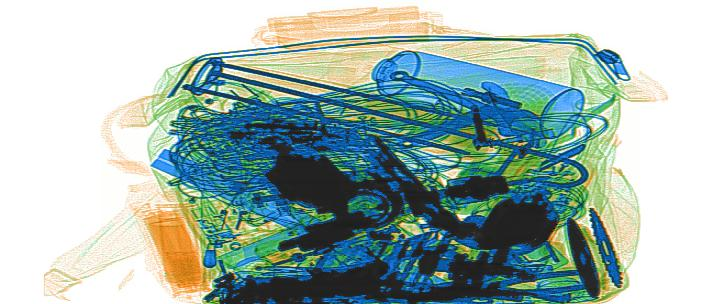pressure: (369, 48, 586, 142)
